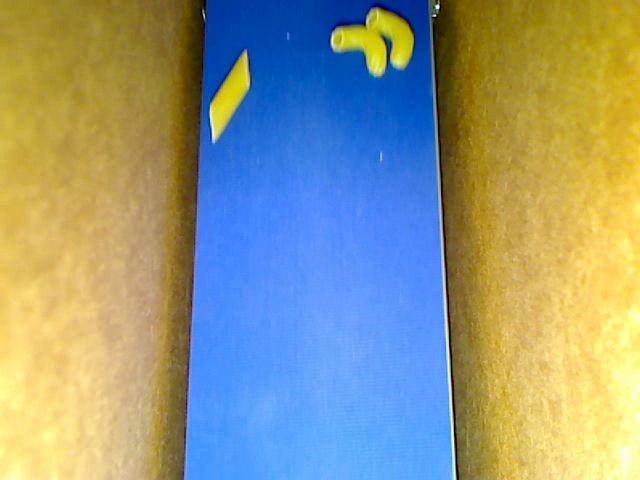elbow: (366, 9, 415, 69), (330, 26, 387, 75)
penne: (209, 50, 251, 142)
